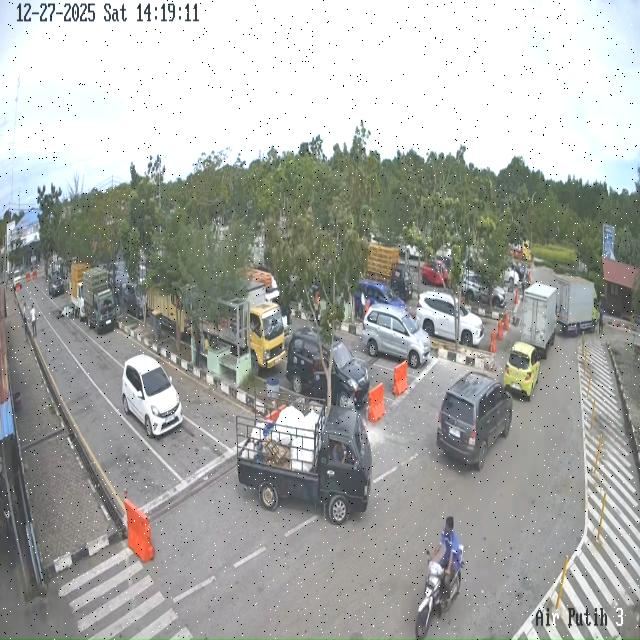Golongan IVA: (436, 372, 513, 471), (286, 327, 370, 408), (122, 354, 183, 438), (361, 304, 431, 368), (416, 290, 484, 348), (503, 341, 541, 401), (462, 271, 506, 308), (360, 279, 406, 310), (122, 282, 144, 319), (48, 272, 64, 298)
Golongan IVB: (236, 391, 372, 525), (83, 267, 117, 334), (68, 262, 89, 321)
Golongan VB: (521, 283, 557, 359), (555, 274, 599, 334)
